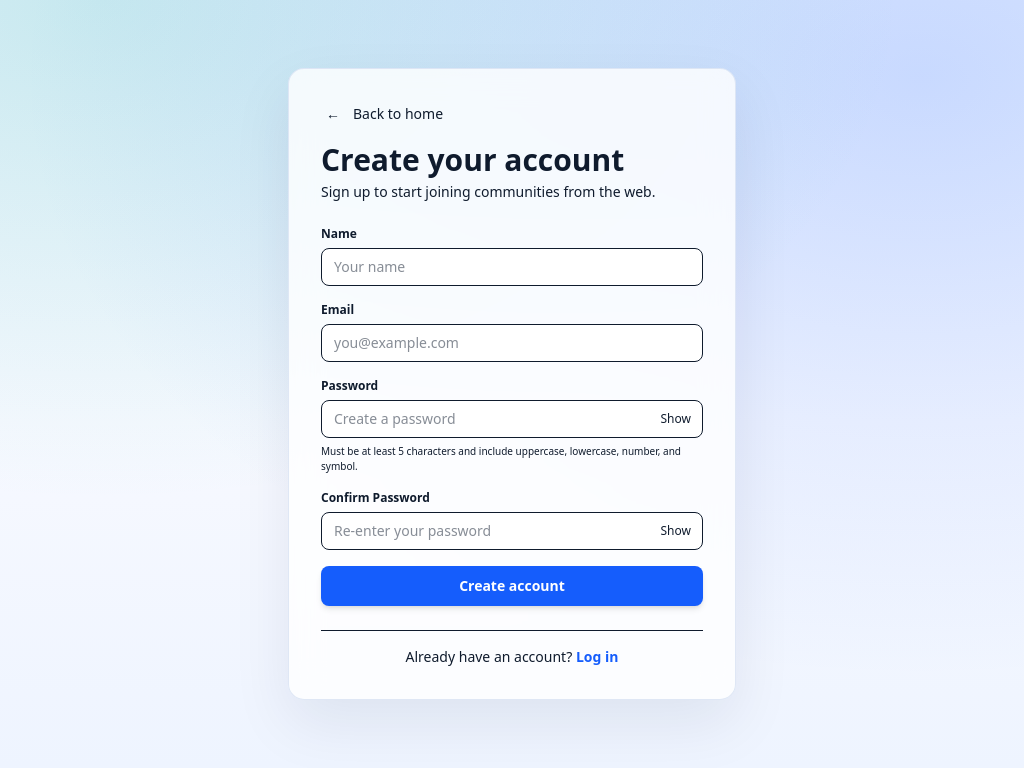
Scenario: Register page › shows strong-password validation error
Type "John" into the field labelled "Name" at (512, 267), box [321, 248, 703, 286]
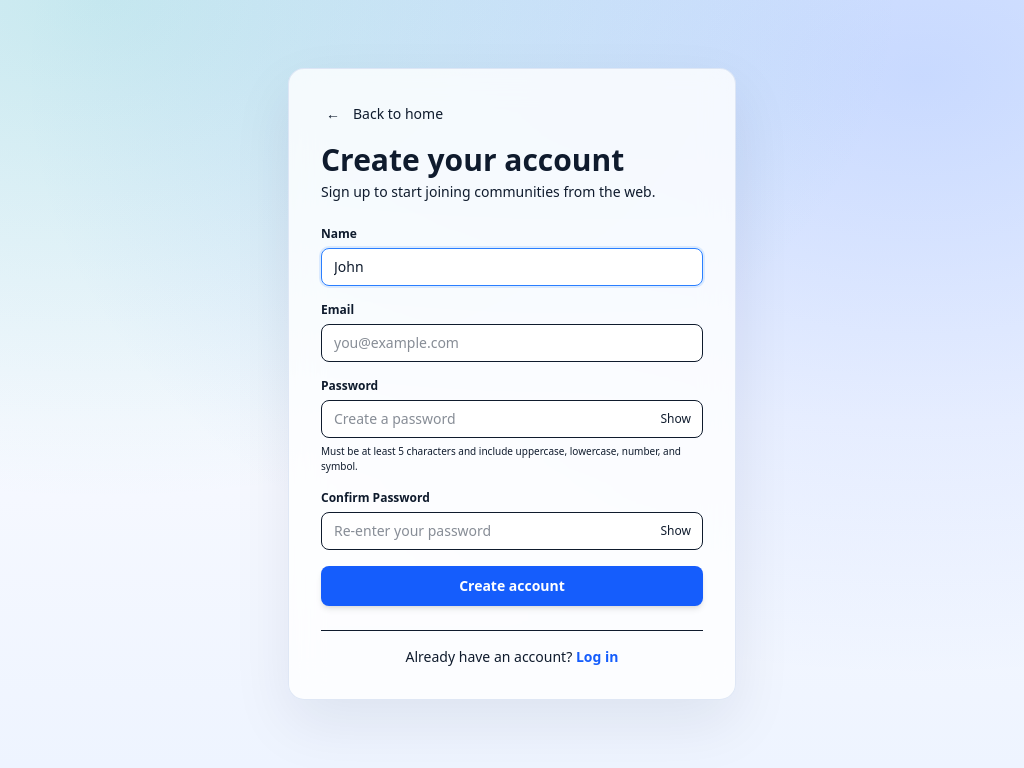
Type "john@example.com" into the field labelled "Email" at (512, 343), box [321, 324, 703, 362]
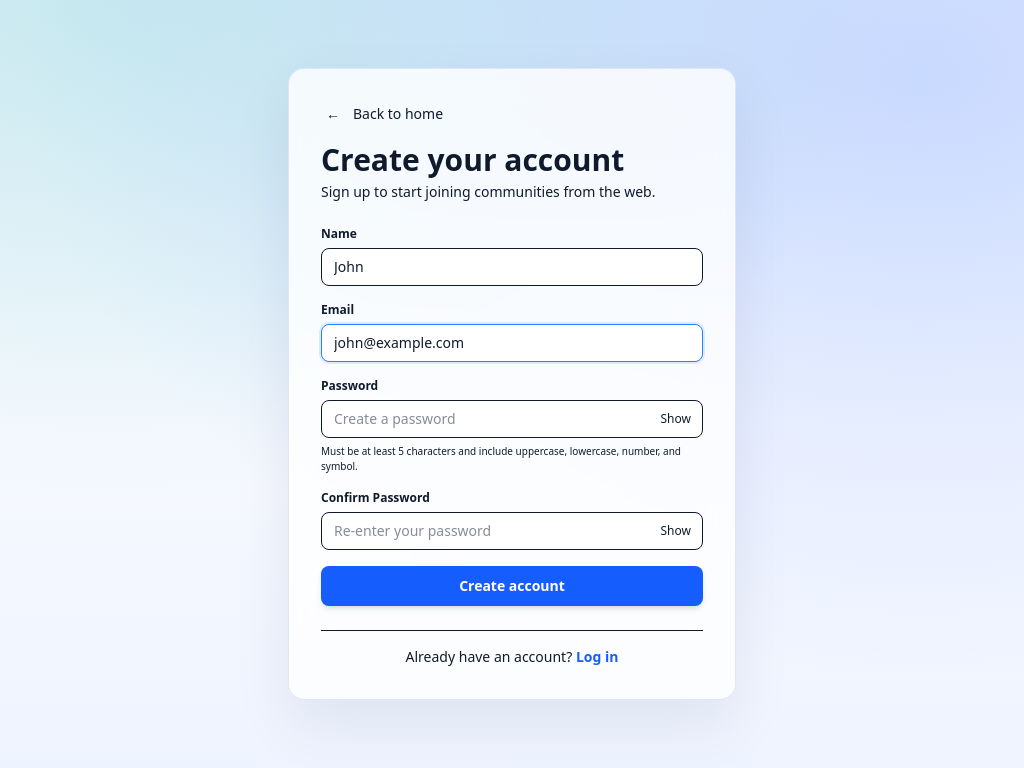
Type "weak" into the password field labelled "Password" at (512, 419), box [321, 400, 703, 438]
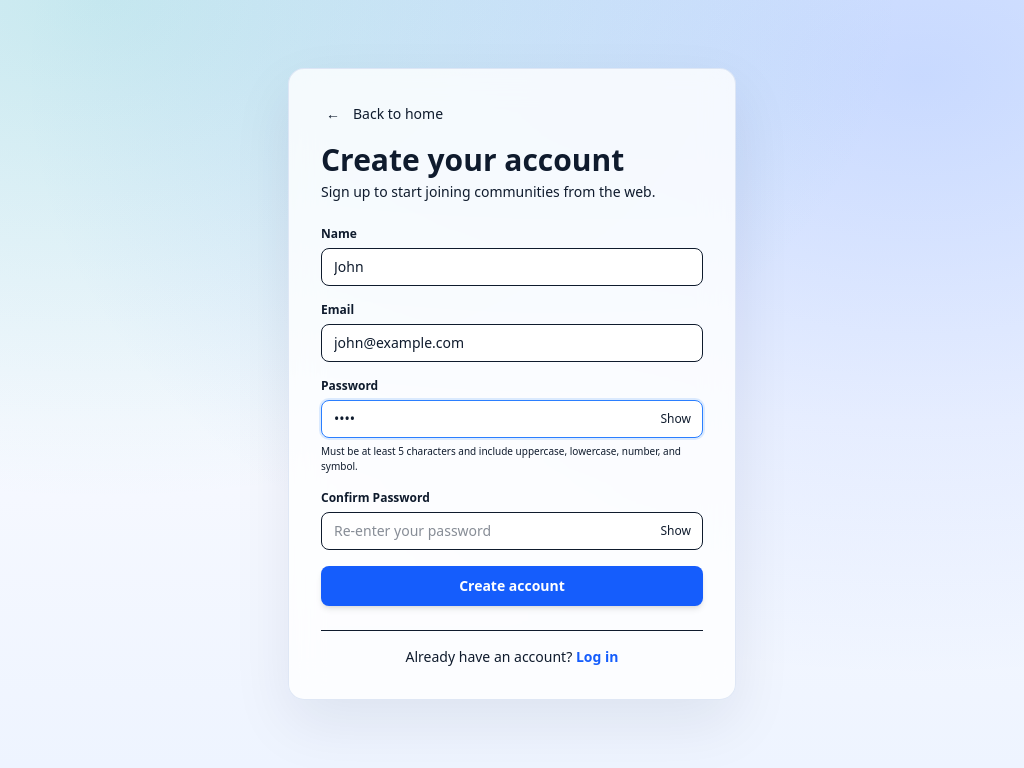
Type "weak" into the password field labelled "Confirm Password" at (512, 531), box [321, 512, 703, 550]
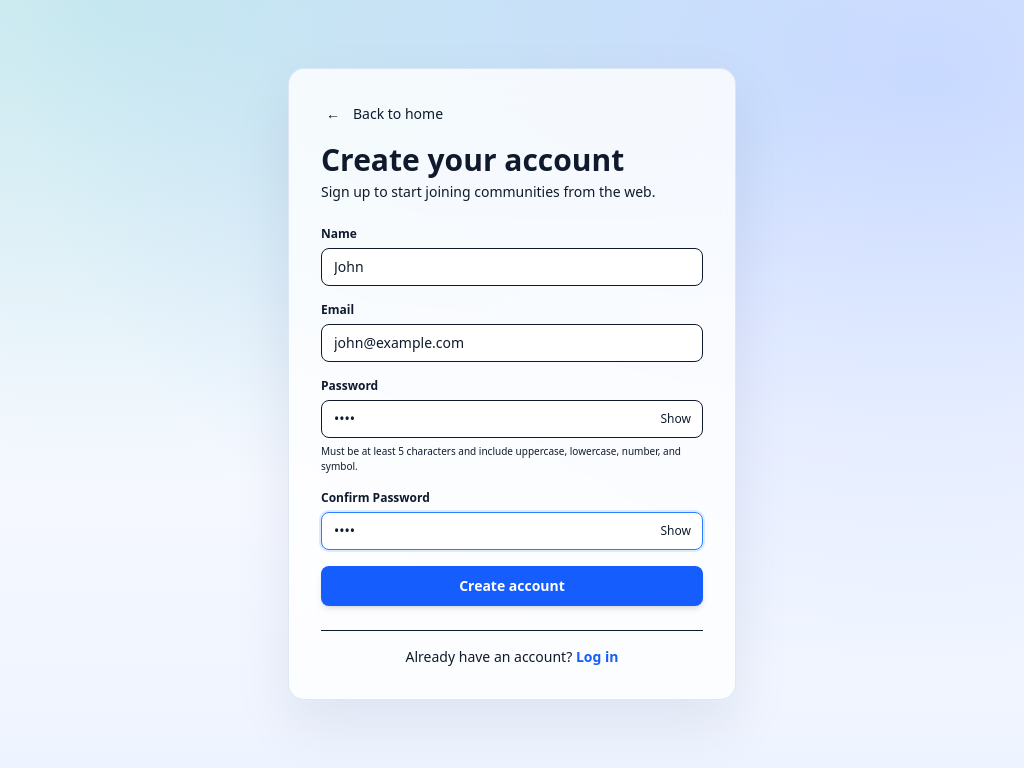
Click the button "Create account" at (512, 586), box [321, 566, 703, 606]
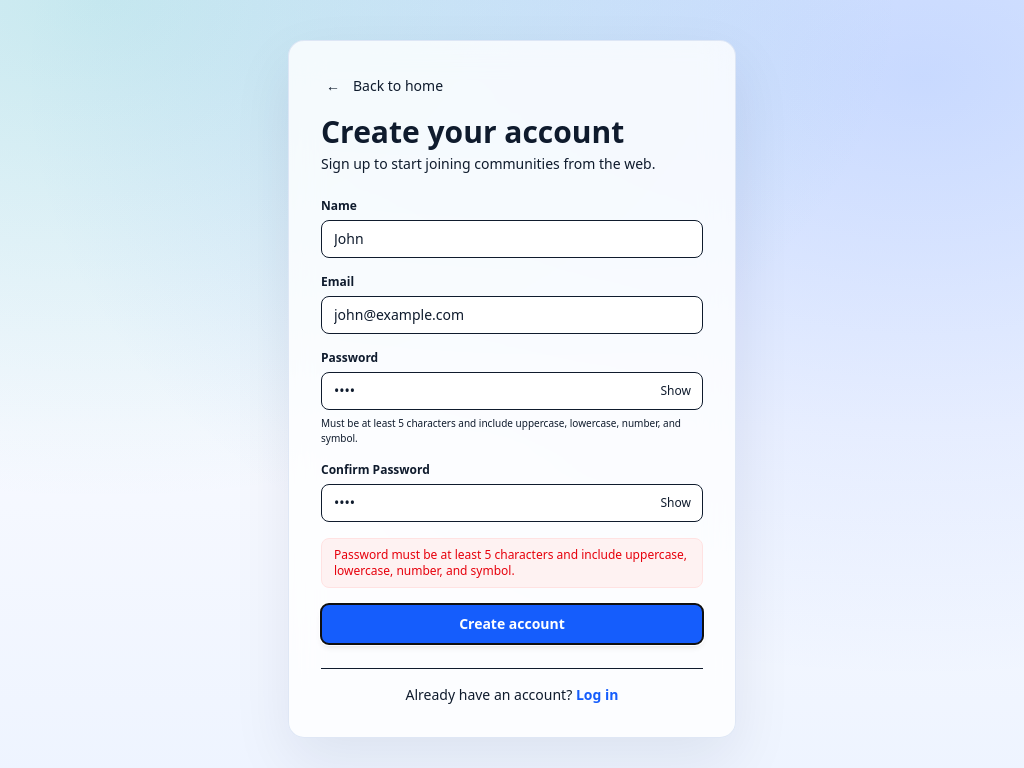
Check: the text "Password must be at least 5 characters and include uppercase" is shown, box [334, 546, 687, 579]
